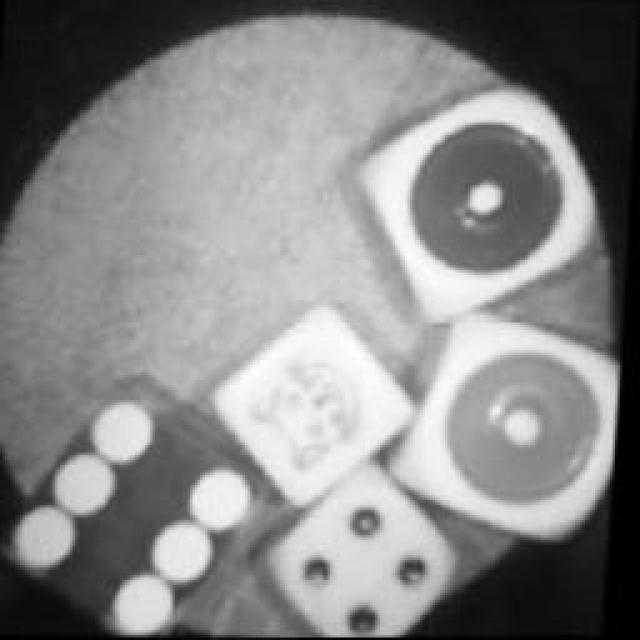dice_1: (371, 83, 609, 315), (402, 314, 628, 536)
dice_4: (274, 465, 468, 637)
dice_6: (0, 382, 280, 640)
